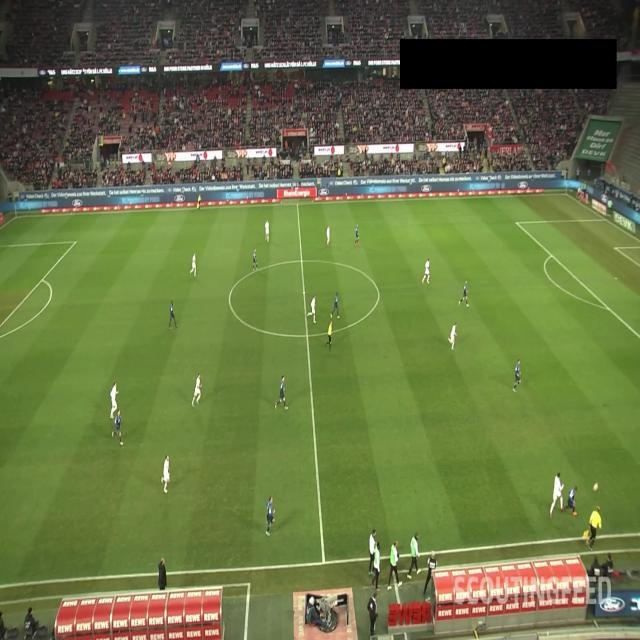ball: (593, 482, 599, 492)
player: (550, 471, 565, 519), (275, 375, 288, 410), (112, 410, 124, 445), (565, 484, 578, 516), (109, 381, 119, 419), (192, 372, 202, 407), (266, 495, 274, 536), (162, 454, 170, 494), (168, 299, 178, 329), (448, 322, 458, 350), (459, 280, 469, 307), (513, 359, 521, 392), (308, 295, 316, 324), (422, 257, 430, 285), (332, 291, 339, 318), (190, 253, 197, 276), (252, 248, 258, 271), (265, 218, 269, 242), (355, 224, 359, 245), (326, 225, 330, 245)
referee: (582, 504, 602, 552), (324, 320, 333, 350), (197, 193, 201, 210)
